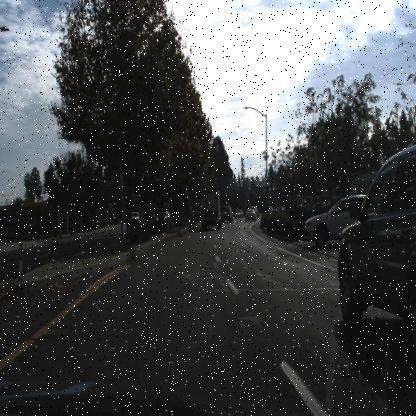car: (302, 193, 366, 252), (303, 197, 353, 246), (197, 188, 225, 230), (218, 203, 234, 224), (157, 208, 172, 224), (244, 205, 256, 224), (130, 210, 140, 228)
truck: (199, 188, 222, 230)
